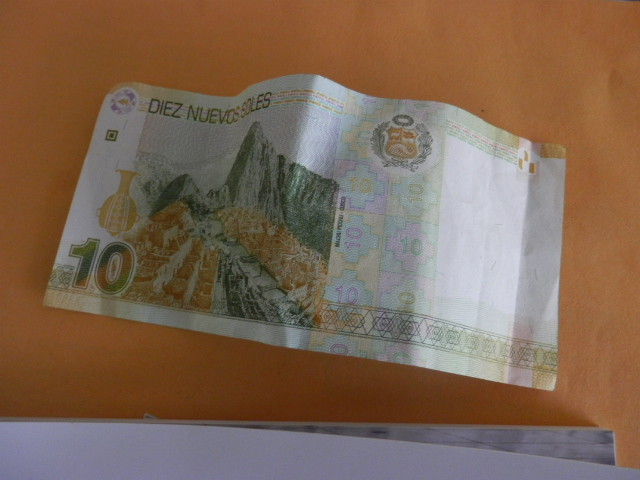B10: (45, 84, 572, 401)
